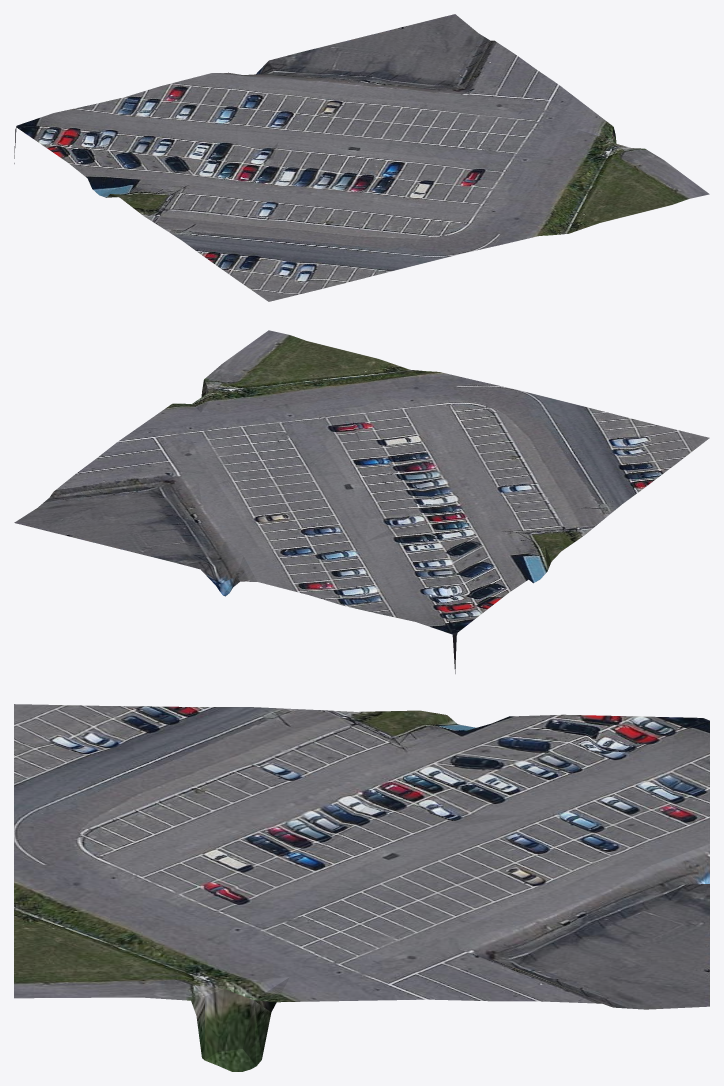
Rendered from map_15_8186_13782.dae.
3 renders of one model, top to bottom at view 1: azimuth 30°, elevation 25°; view 2: azimuth 150°, elevation 25°; view 3: azimuth 270°, elevation 25°, orthographic. The views are drawn at different scales.
Visible parts, largest first — view 1: Ter0; view 2: Ter0; view 3: Ter0.
Boxes of the visible parts, <box> form: Ter0: <box>14,14,709,301</box>; Ter0: <box>14,330,709,673</box>; Ter0: <box>14,704,709,1071</box>.
Size of the model in its own units: 63.88 by 63.88 by 7.6.
Materials: 2 (2 with a texture image).
